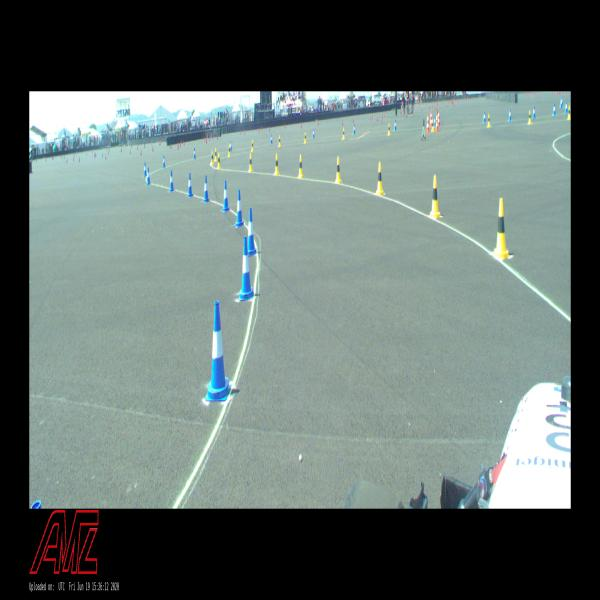blue_cone: (204, 301, 232, 402), (238, 235, 254, 300), (245, 207, 257, 256), (234, 189, 245, 228), (222, 180, 230, 212), (202, 175, 210, 203), (187, 173, 193, 197), (168, 170, 174, 192), (146, 167, 151, 185), (143, 162, 147, 177), (162, 155, 166, 168), (564, 101, 568, 113), (393, 119, 397, 131), (532, 106, 536, 117), (508, 109, 511, 122), (553, 103, 556, 115), (482, 111, 485, 122), (312, 128, 315, 139), (270, 134, 273, 145), (193, 148, 196, 159), (433, 116, 436, 127), (352, 124, 355, 134), (230, 140, 232, 152), (560, 98, 562, 108), (561, 96, 563, 106)
large_orange_cone: (426, 112, 430, 133), (429, 108, 433, 127), (435, 110, 438, 132), (437, 109, 440, 127)
unknown_cone: (78, 155, 81, 163), (140, 148, 142, 156), (105, 152, 107, 160), (453, 102, 455, 109), (207, 132, 209, 139), (376, 115, 378, 122), (129, 148, 131, 155), (66, 157, 68, 164), (211, 134, 213, 140), (183, 140, 185, 146), (177, 143, 179, 149), (170, 143, 172, 149), (435, 105, 437, 111), (240, 130, 242, 135), (284, 123, 286, 128), (432, 104, 434, 109), (446, 103, 448, 108), (181, 139, 183, 144), (468, 98, 470, 102), (466, 99, 468, 103), (258, 129, 260, 133), (342, 119, 343, 126), (382, 113, 383, 120), (152, 145, 153, 152), (206, 138, 207, 144), (204, 136, 205, 142), (209, 136, 210, 142), (217, 134, 218, 140), (269, 126, 270, 132), (353, 118, 354, 124), (370, 116, 371, 122), (406, 112, 407, 118), (410, 110, 411, 116), (422, 106, 423, 112), (448, 102, 450, 105), (244, 130, 245, 135), (301, 124, 302, 129), (318, 121, 319, 126), (372, 113, 373, 118), (384, 113, 385, 118), (429, 105, 430, 110), (137, 145, 138, 150), (400, 110, 401, 114), (419, 105, 420, 109), (451, 100, 452, 104), (180, 142, 181, 146), (472, 99, 473, 102), (262, 127, 262, 132)
yellow_cone: (492, 198, 510, 262), (429, 175, 441, 220), (374, 161, 384, 196), (335, 156, 342, 183), (297, 155, 304, 178), (274, 154, 280, 175), (248, 153, 253, 172), (216, 151, 221, 170), (527, 110, 532, 124), (387, 123, 391, 136), (487, 114, 491, 127), (567, 106, 571, 119), (431, 117, 434, 133), (342, 127, 345, 140), (214, 148, 217, 161), (228, 144, 231, 157), (304, 132, 307, 144), (251, 140, 254, 151), (278, 136, 281, 146)
